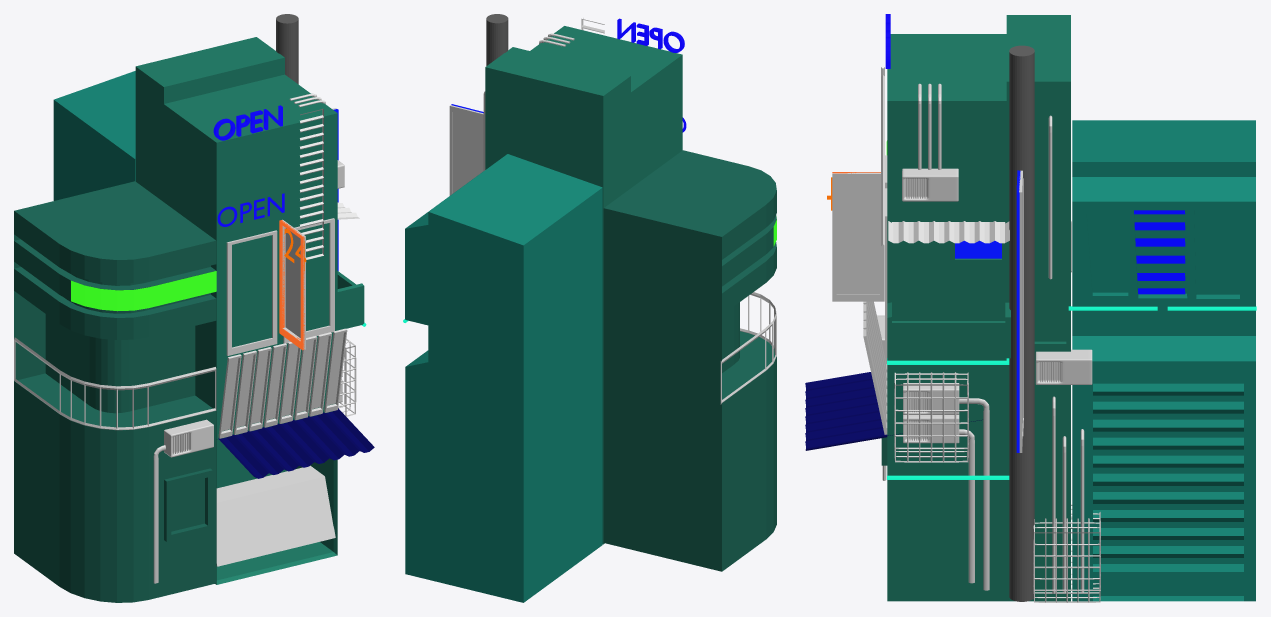
The model's file is building.glb.
3 views of the same model, side by side, from view 1: azimuth 30°, elevation 25°; view 2: azimuth 150°, elevation 25°; view 3: azimuth 270°, elevation 25° (orthographic). The views are drawn at different scales.
Parts seen in each view (by area): view 1: Cube.002, Cube.001, Cube.013, Cube.003, Plane, Cube.034, Cube.014, Plane.011, Plane.010, Plane.014, Plane.016, Cube.005 (+14 smaller); view 2: Cube.003, Cube.002, Cube.001, Plane.012, Cube.014, Cylinder.038, Text.002; view 3: Cube.003, Cube.001, Cylinder.038, Plane.011, Plane, Cube.011, Plane.013, Cube.010, Cube.012, Cube.015, Cube.009, Cylinder.037 (+13 smaller).
Boxes of the visible parts, box(x1,y1,x2,y2) form: Cube.002: box(14, 181, 216, 602); Cube.001: box(135, 37, 364, 584); Cube.013: box(216, 465, 335, 566); Cube.003: box(53, 71, 135, 200); Plane: box(218, 408, 374, 478); Cube.034: box(71, 271, 216, 311); Cube.014: box(14, 337, 216, 430); Plane.011: box(282, 219, 305, 349); Plane.010: box(226, 230, 277, 355); Plane.014: box(300, 108, 323, 259); Plane.016: box(279, 220, 304, 350); Cube.005: box(164, 419, 213, 457); Cube.003: box(405, 154, 602, 602); Cube.002: box(603, 150, 776, 571); Cube.001: box(485, 26, 682, 544); Plane.012: box(449, 105, 483, 195); Cube.014: box(720, 292, 776, 404); Cylinder.038: box(486, 14, 508, 65); Text.002: box(617, 18, 684, 52); Cube.003: box(1072, 120, 1255, 601); Cube.001: box(887, 15, 1070, 601); Cylinder.038: box(1009, 45, 1034, 601); Plane.011: box(832, 172, 884, 301); Plane: box(805, 372, 982, 450); Cube.011: box(894, 372, 968, 462); Plane.013: box(888, 221, 1009, 243); Cube.010: box(1033, 504, 1100, 602); Cube.012: box(1035, 349, 1092, 384); Cube.015: box(902, 168, 958, 201); Cube.009: box(903, 383, 959, 414); Cylinder.037: box(959, 398, 989, 590).
Bounding box in the file's own units: 4.27 × 6.68 × 4.92.
